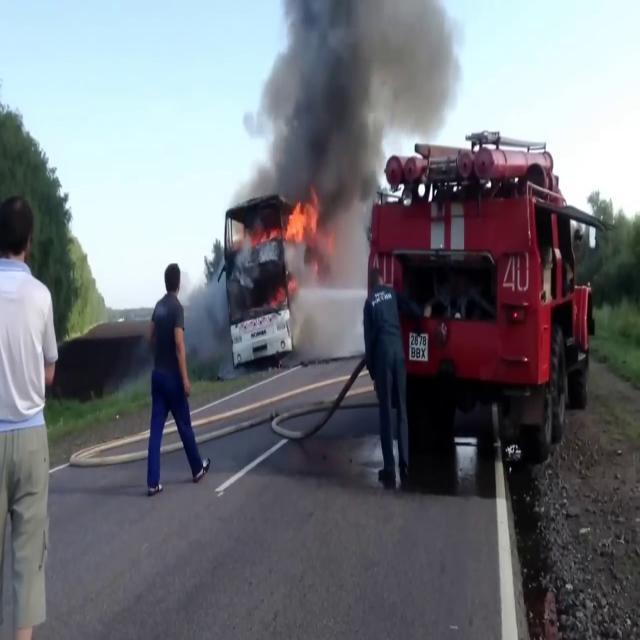Fire: (281, 192, 321, 256)
Smoke: (234, 0, 466, 198), (177, 262, 231, 376)
